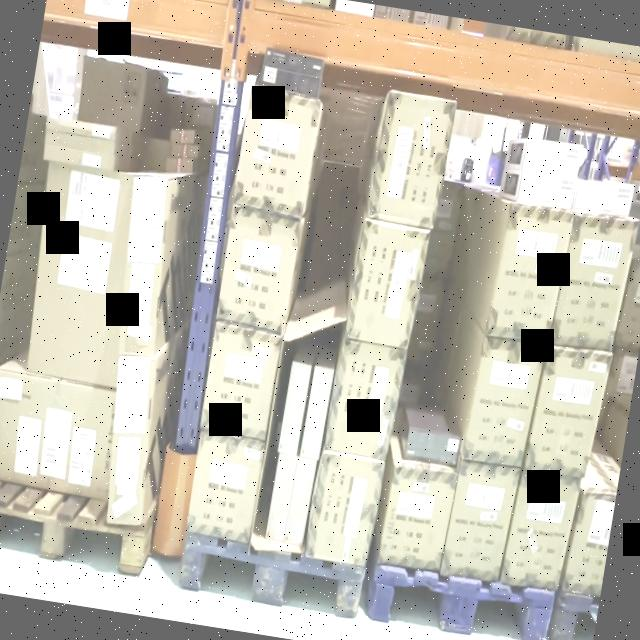box: (23, 164, 140, 380), (0, 373, 120, 497), (111, 177, 178, 370), (371, 92, 455, 231), (100, 348, 164, 527), (554, 212, 636, 350), (235, 89, 322, 218), (216, 208, 302, 333), (493, 206, 573, 340), (528, 346, 608, 480), (348, 220, 428, 350), (466, 336, 544, 468), (326, 340, 406, 462), (202, 326, 282, 440), (504, 473, 580, 593), (186, 432, 265, 544), (307, 452, 383, 568), (444, 463, 518, 582), (381, 464, 456, 571), (564, 496, 614, 596), (79, 60, 145, 126), (300, 369, 332, 461), (262, 51, 326, 96), (266, 454, 298, 544), (284, 455, 316, 544), (283, 366, 312, 456), (574, 178, 636, 218), (44, 136, 113, 168), (406, 430, 464, 468), (518, 170, 576, 208), (526, 141, 582, 178), (617, 260, 640, 350), (48, 118, 115, 142)
